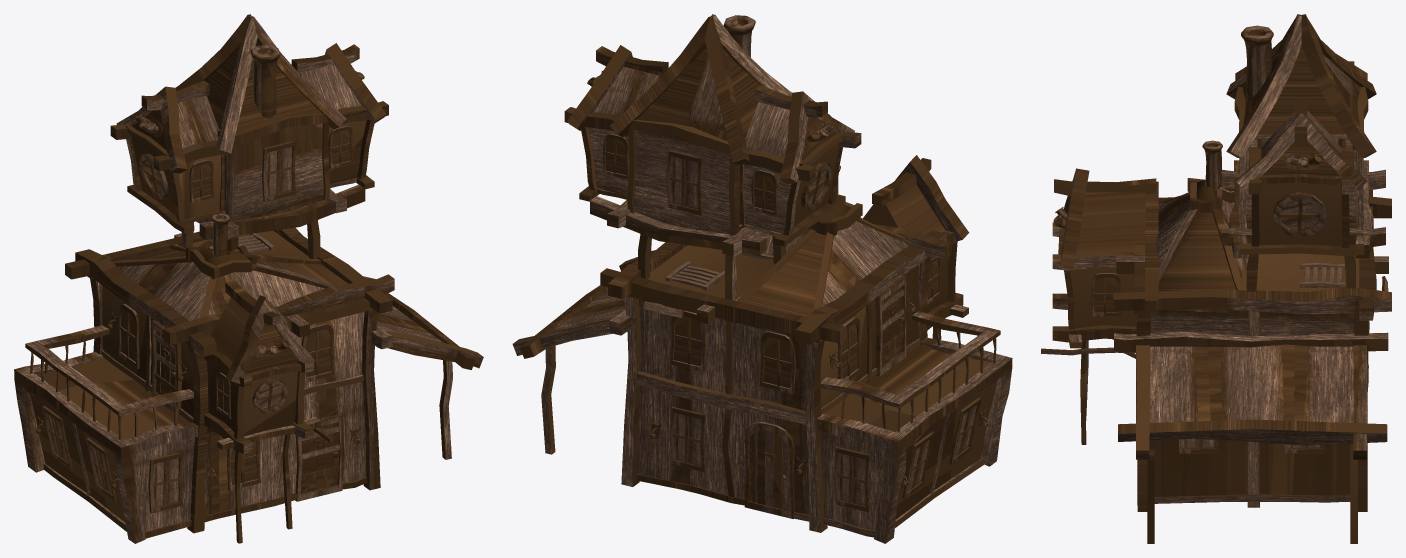
Rendered from House-1.fbx.
The picture shows the model from 3 angles, left to right: view 1: azimuth 30°, elevation 25°; view 2: azimuth 150°, elevation 25°; view 3: azimuth 270°, elevation 25°; orthographic projection. The views are drawn at different scales.
Visible parts, largest first — view 1: EV.003; view 2: EV.003; view 3: EV.003.
Part boxes in pixels (x1,y1,x2,y2): EV.003: (14, 14, 483, 543); EV.003: (512, 14, 1012, 543); EV.003: (1041, 14, 1391, 543).
Bounding box in the file's own units: 426 × 483 × 328.
